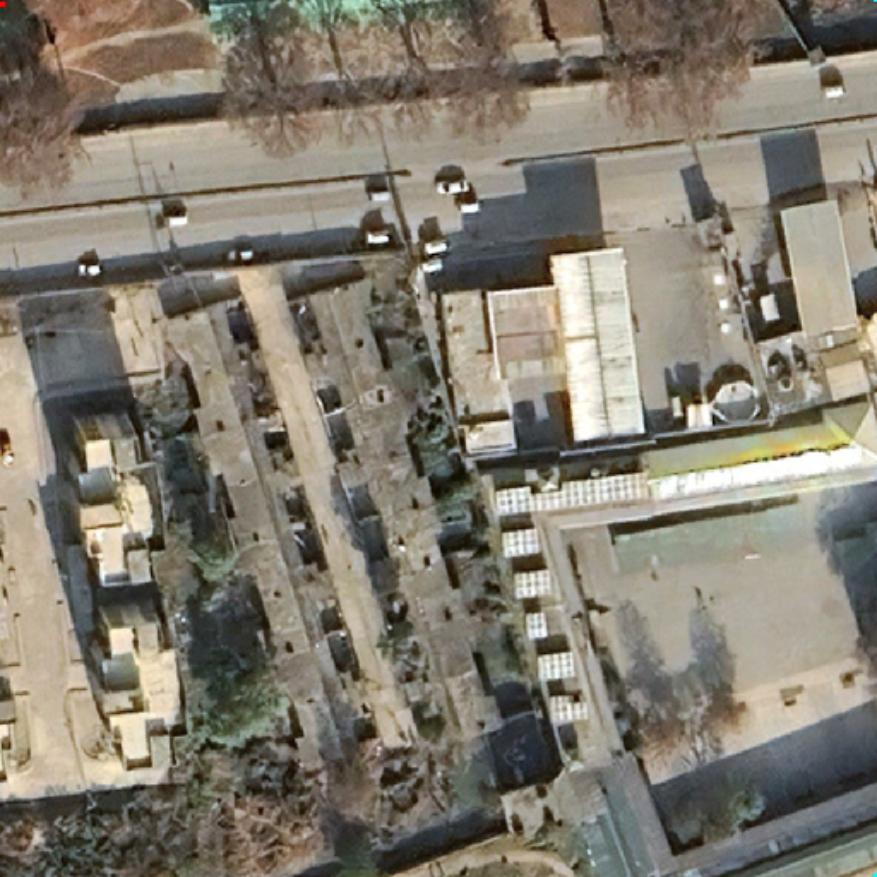Solarpanel: (491, 467, 653, 517), (534, 648, 578, 682), (547, 692, 591, 726), (499, 525, 542, 559), (511, 566, 553, 600), (524, 608, 550, 639)
